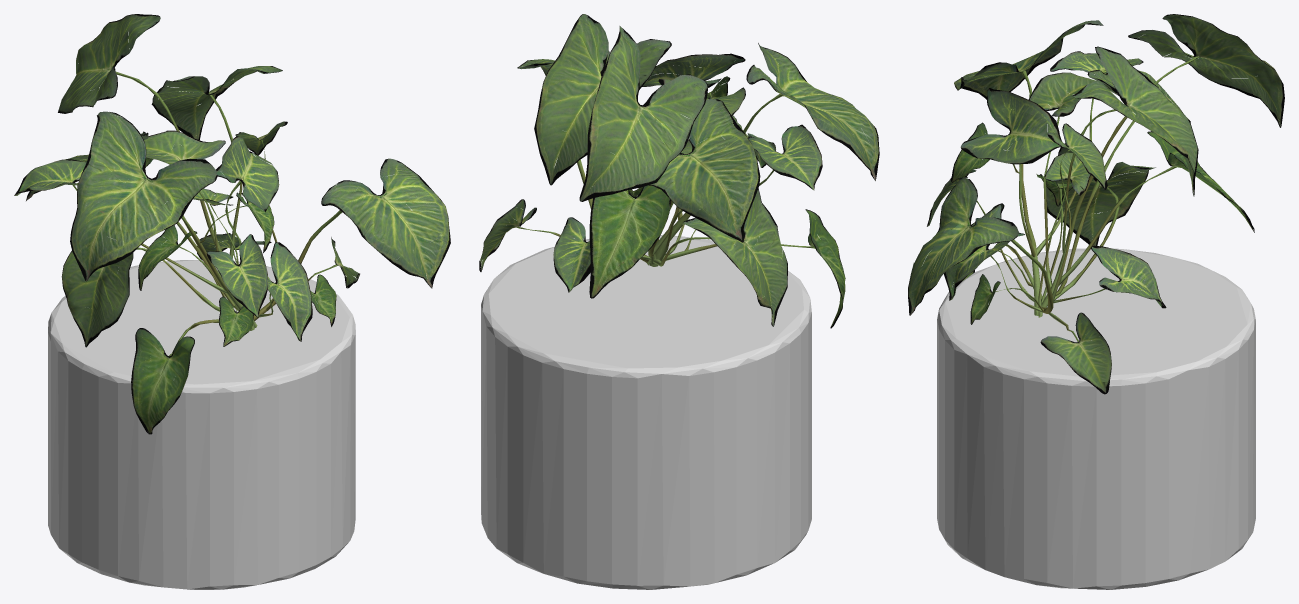
File: plant_small.glb
3 renders of one model, left to right at view 1: azimuth 30°, elevation 25°; view 2: azimuth 150°, elevation 25°; view 3: azimuth 270°, elevation 25°, orthographic. The views are drawn at different scales.
Parts seen in each view (by area): view 1: potted_plant_02_leaves; view 2: potted_plant_02_leaves; view 3: potted_plant_02_leaves.
Part boxes in pixels (bbox=[...]): potted_plant_02_leaves: bbox=[14, 14, 450, 589]; potted_plant_02_leaves: bbox=[479, 14, 879, 589]; potted_plant_02_leaves: bbox=[908, 14, 1284, 589].
Bounding box in the file's own units: 0.8762 × 1.19 × 0.804.
Materials: 2 (1 with a texture image).
